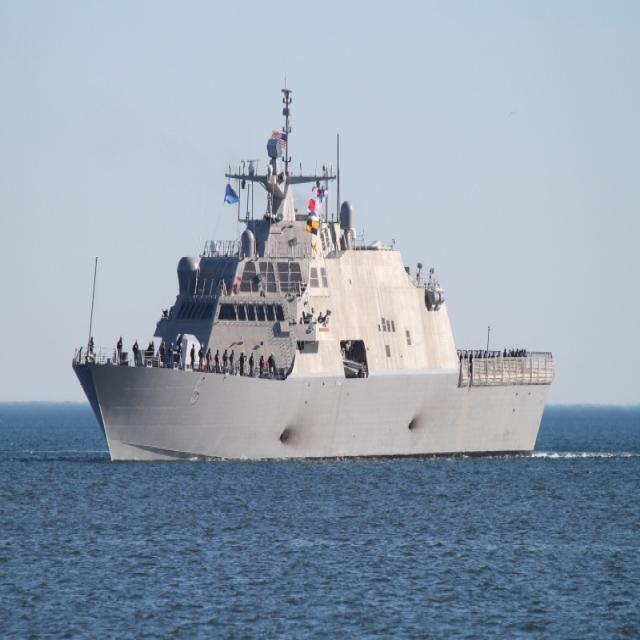navalvessels: (70, 70, 552, 456)
